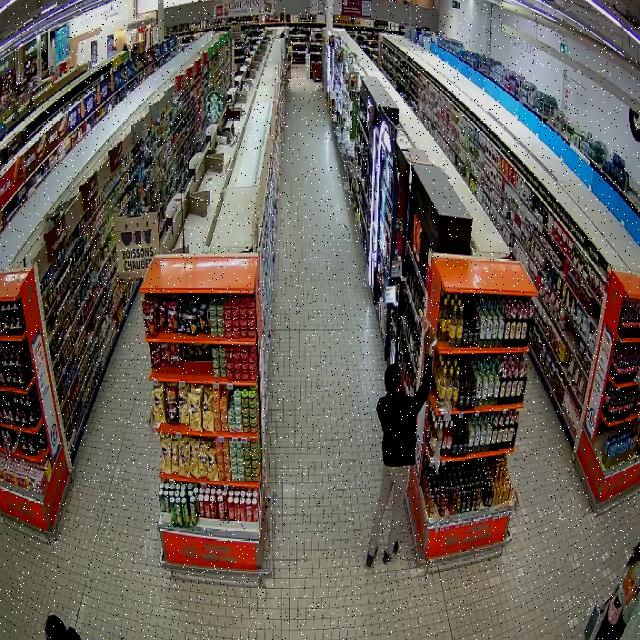article: (418, 308, 438, 347)
bags: (608, 597, 622, 626)
hands: (423, 327, 434, 351)
person: (366, 325, 435, 566), (593, 542, 639, 639)
